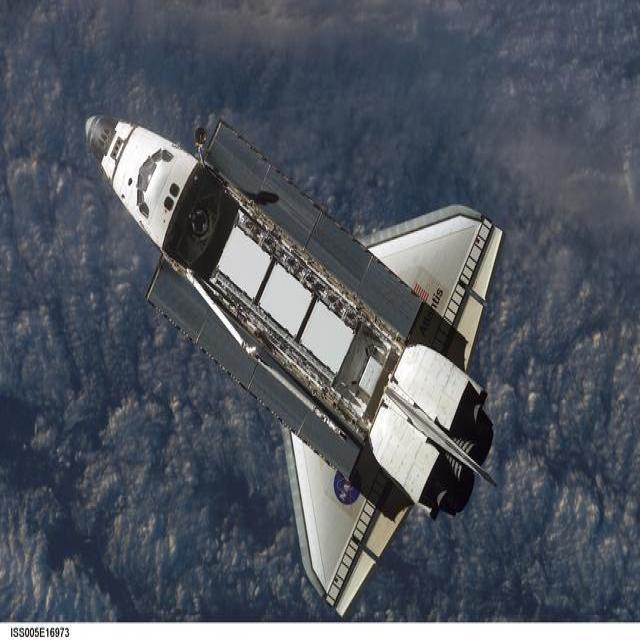satellite: (85, 116, 502, 615)
